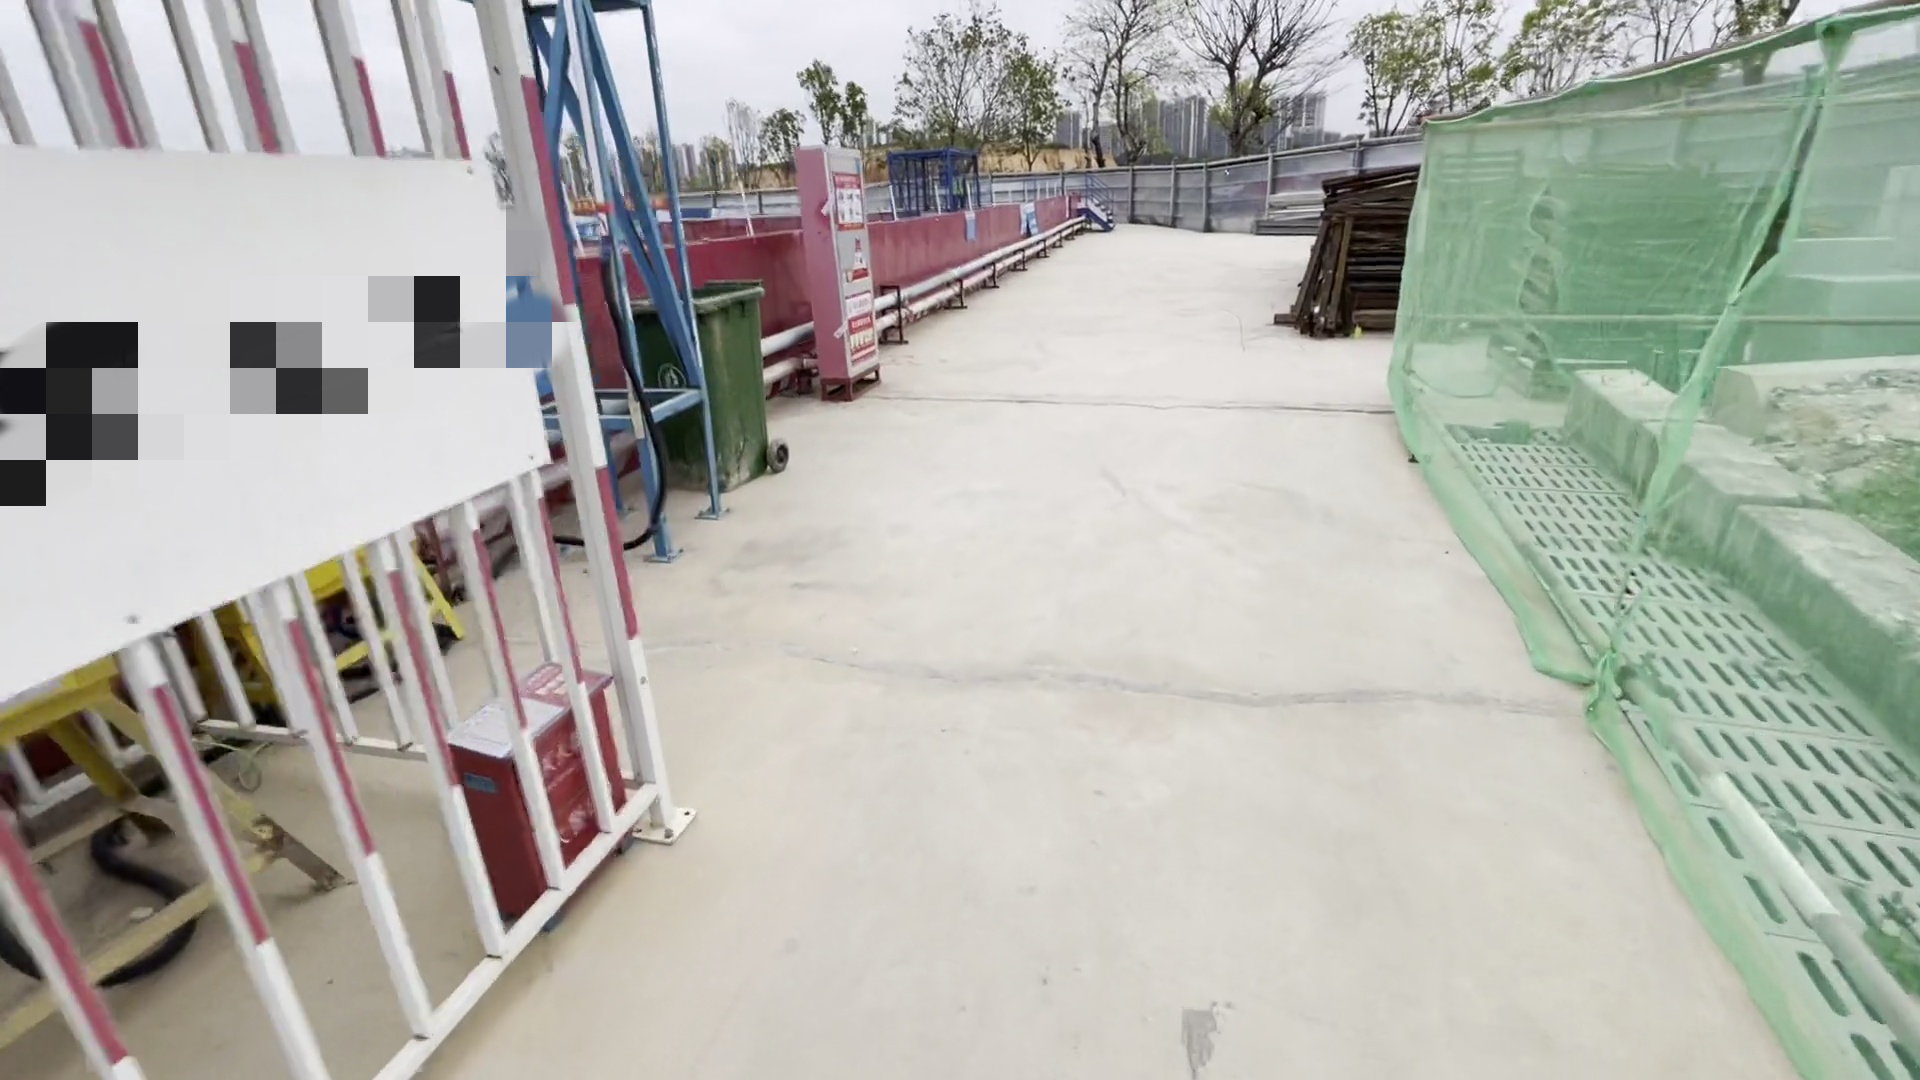fence: (601, 187, 1073, 472)
